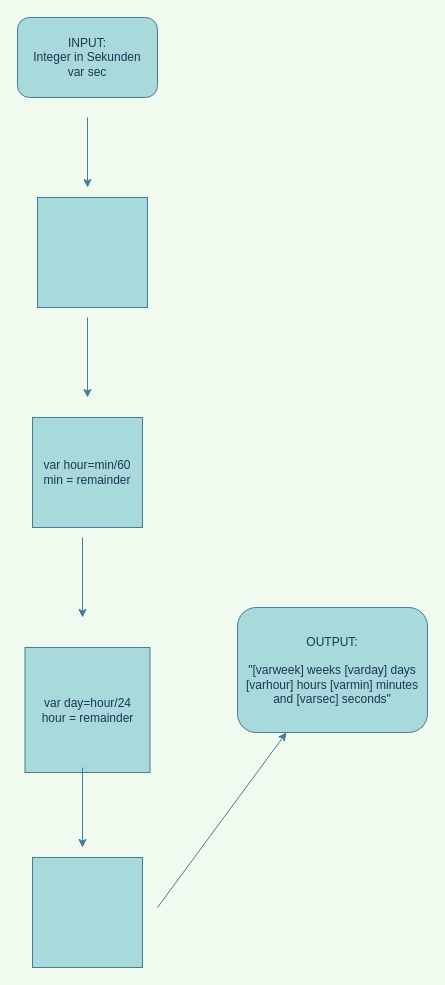
Some shapes in this 445 by 985 pixel diagram are drawn without their labels. The shapes that lost their labels are listed below. From the top down, each one's centre as x and y in pixels, then its label:
At point 92,252: "var min=sec/60 sec = remainder".
At point 87,912: "var week=day/7 day = remainder".
